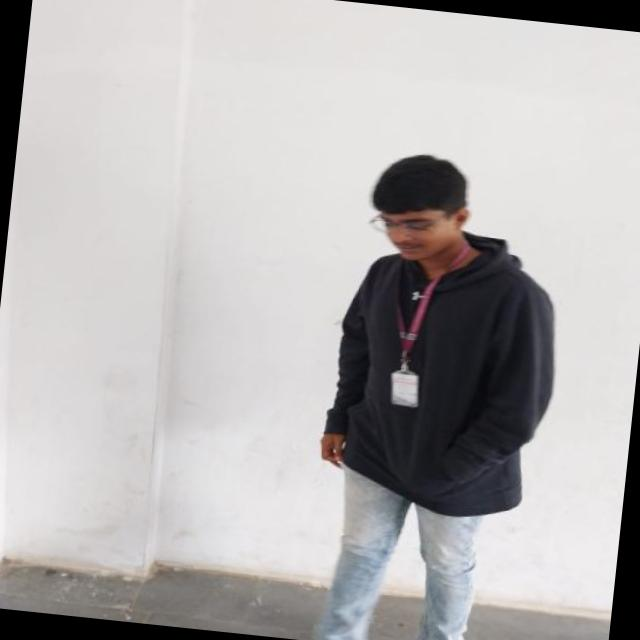id_card: (381, 233, 472, 414)
